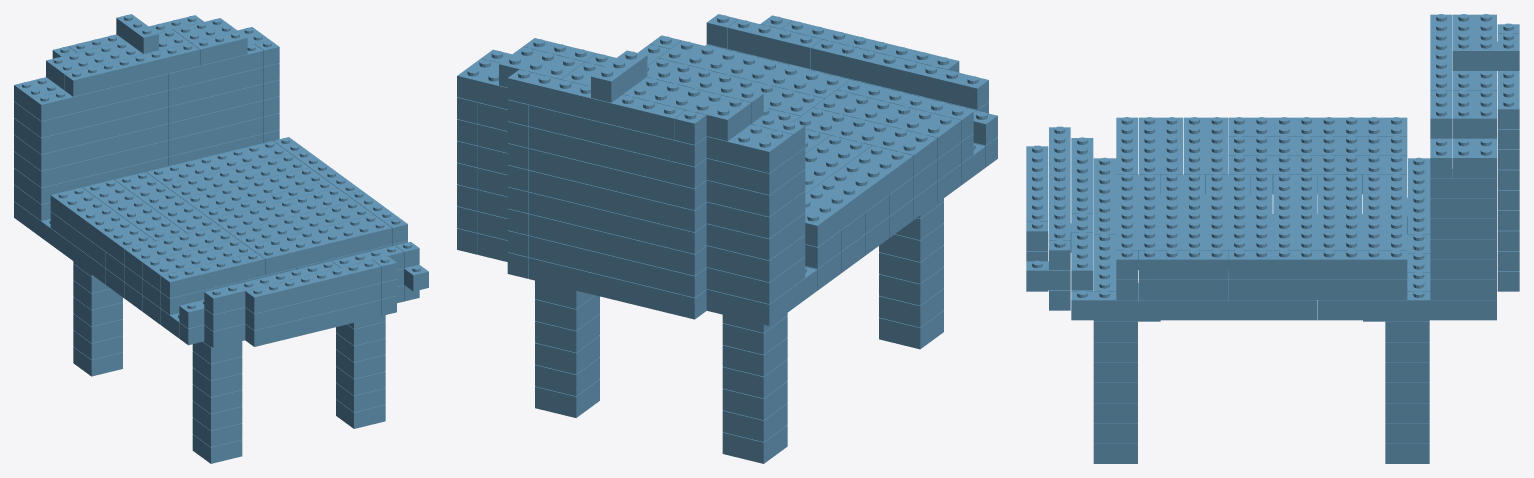
File: 016_bed_L1.glb
The picture shows the model from 3 angles, left to right: view 1: azimuth 30°, elevation 25°; view 2: azimuth 150°, elevation 25°; view 3: azimuth 270°, elevation 25°; orthographic projection. The views are drawn at different scales.
Bounding box in the file's own units: 14.98 × 18.13 × 21.98.
